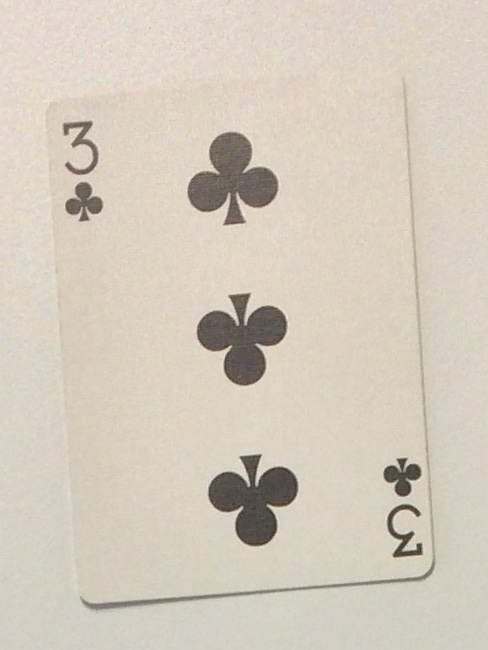3: (51, 110, 110, 182)
C: (60, 180, 110, 224)
